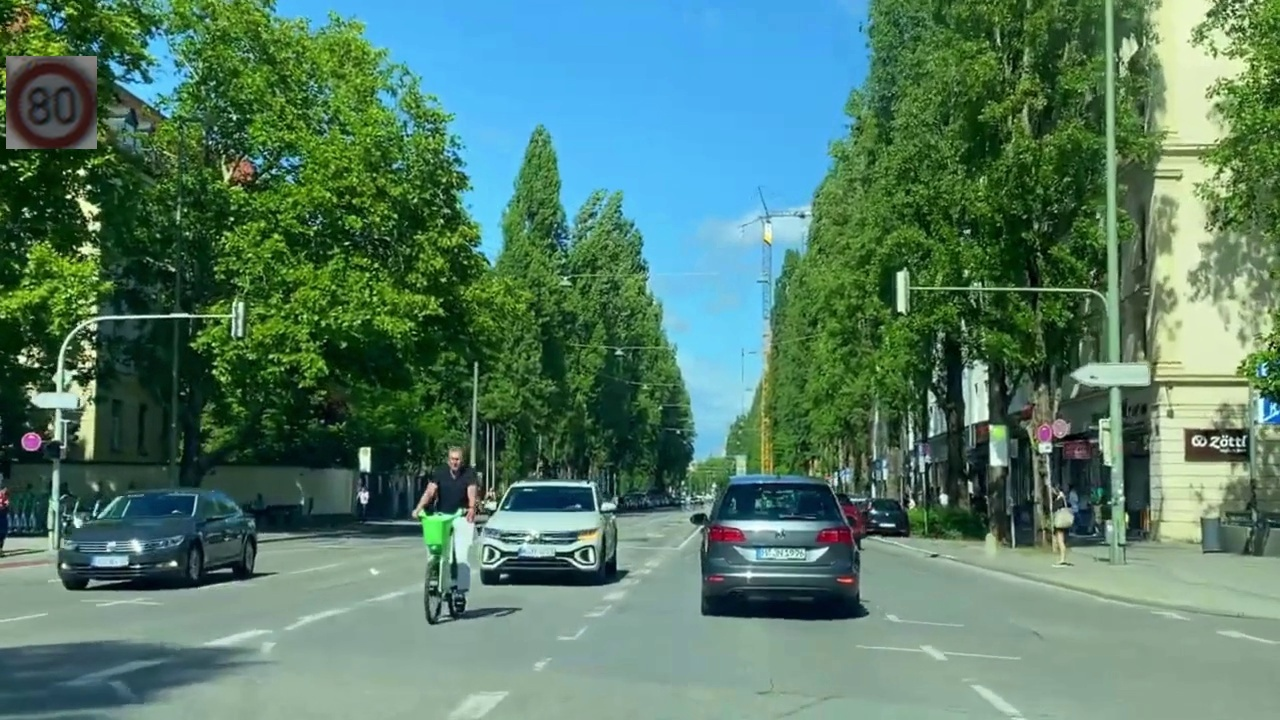Speed 80: (6, 56, 97, 149)
